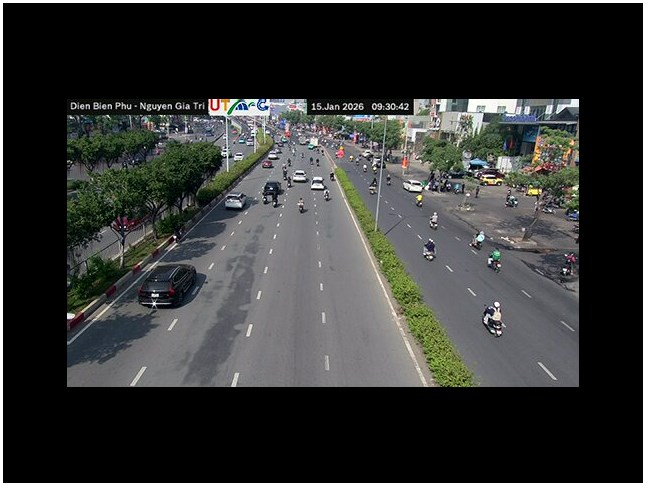car: (137, 263, 197, 307), (262, 181, 282, 204), (224, 192, 248, 210), (402, 178, 423, 192), (291, 169, 308, 183), (310, 177, 325, 190)
motorbike: (483, 314, 505, 337)
